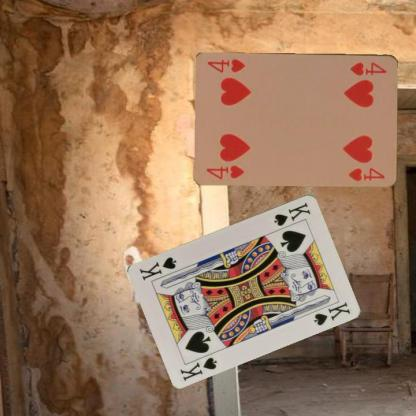4h: (204, 162, 245, 180), (348, 59, 388, 77)
Ks: (177, 354, 219, 383), (271, 199, 312, 228)
